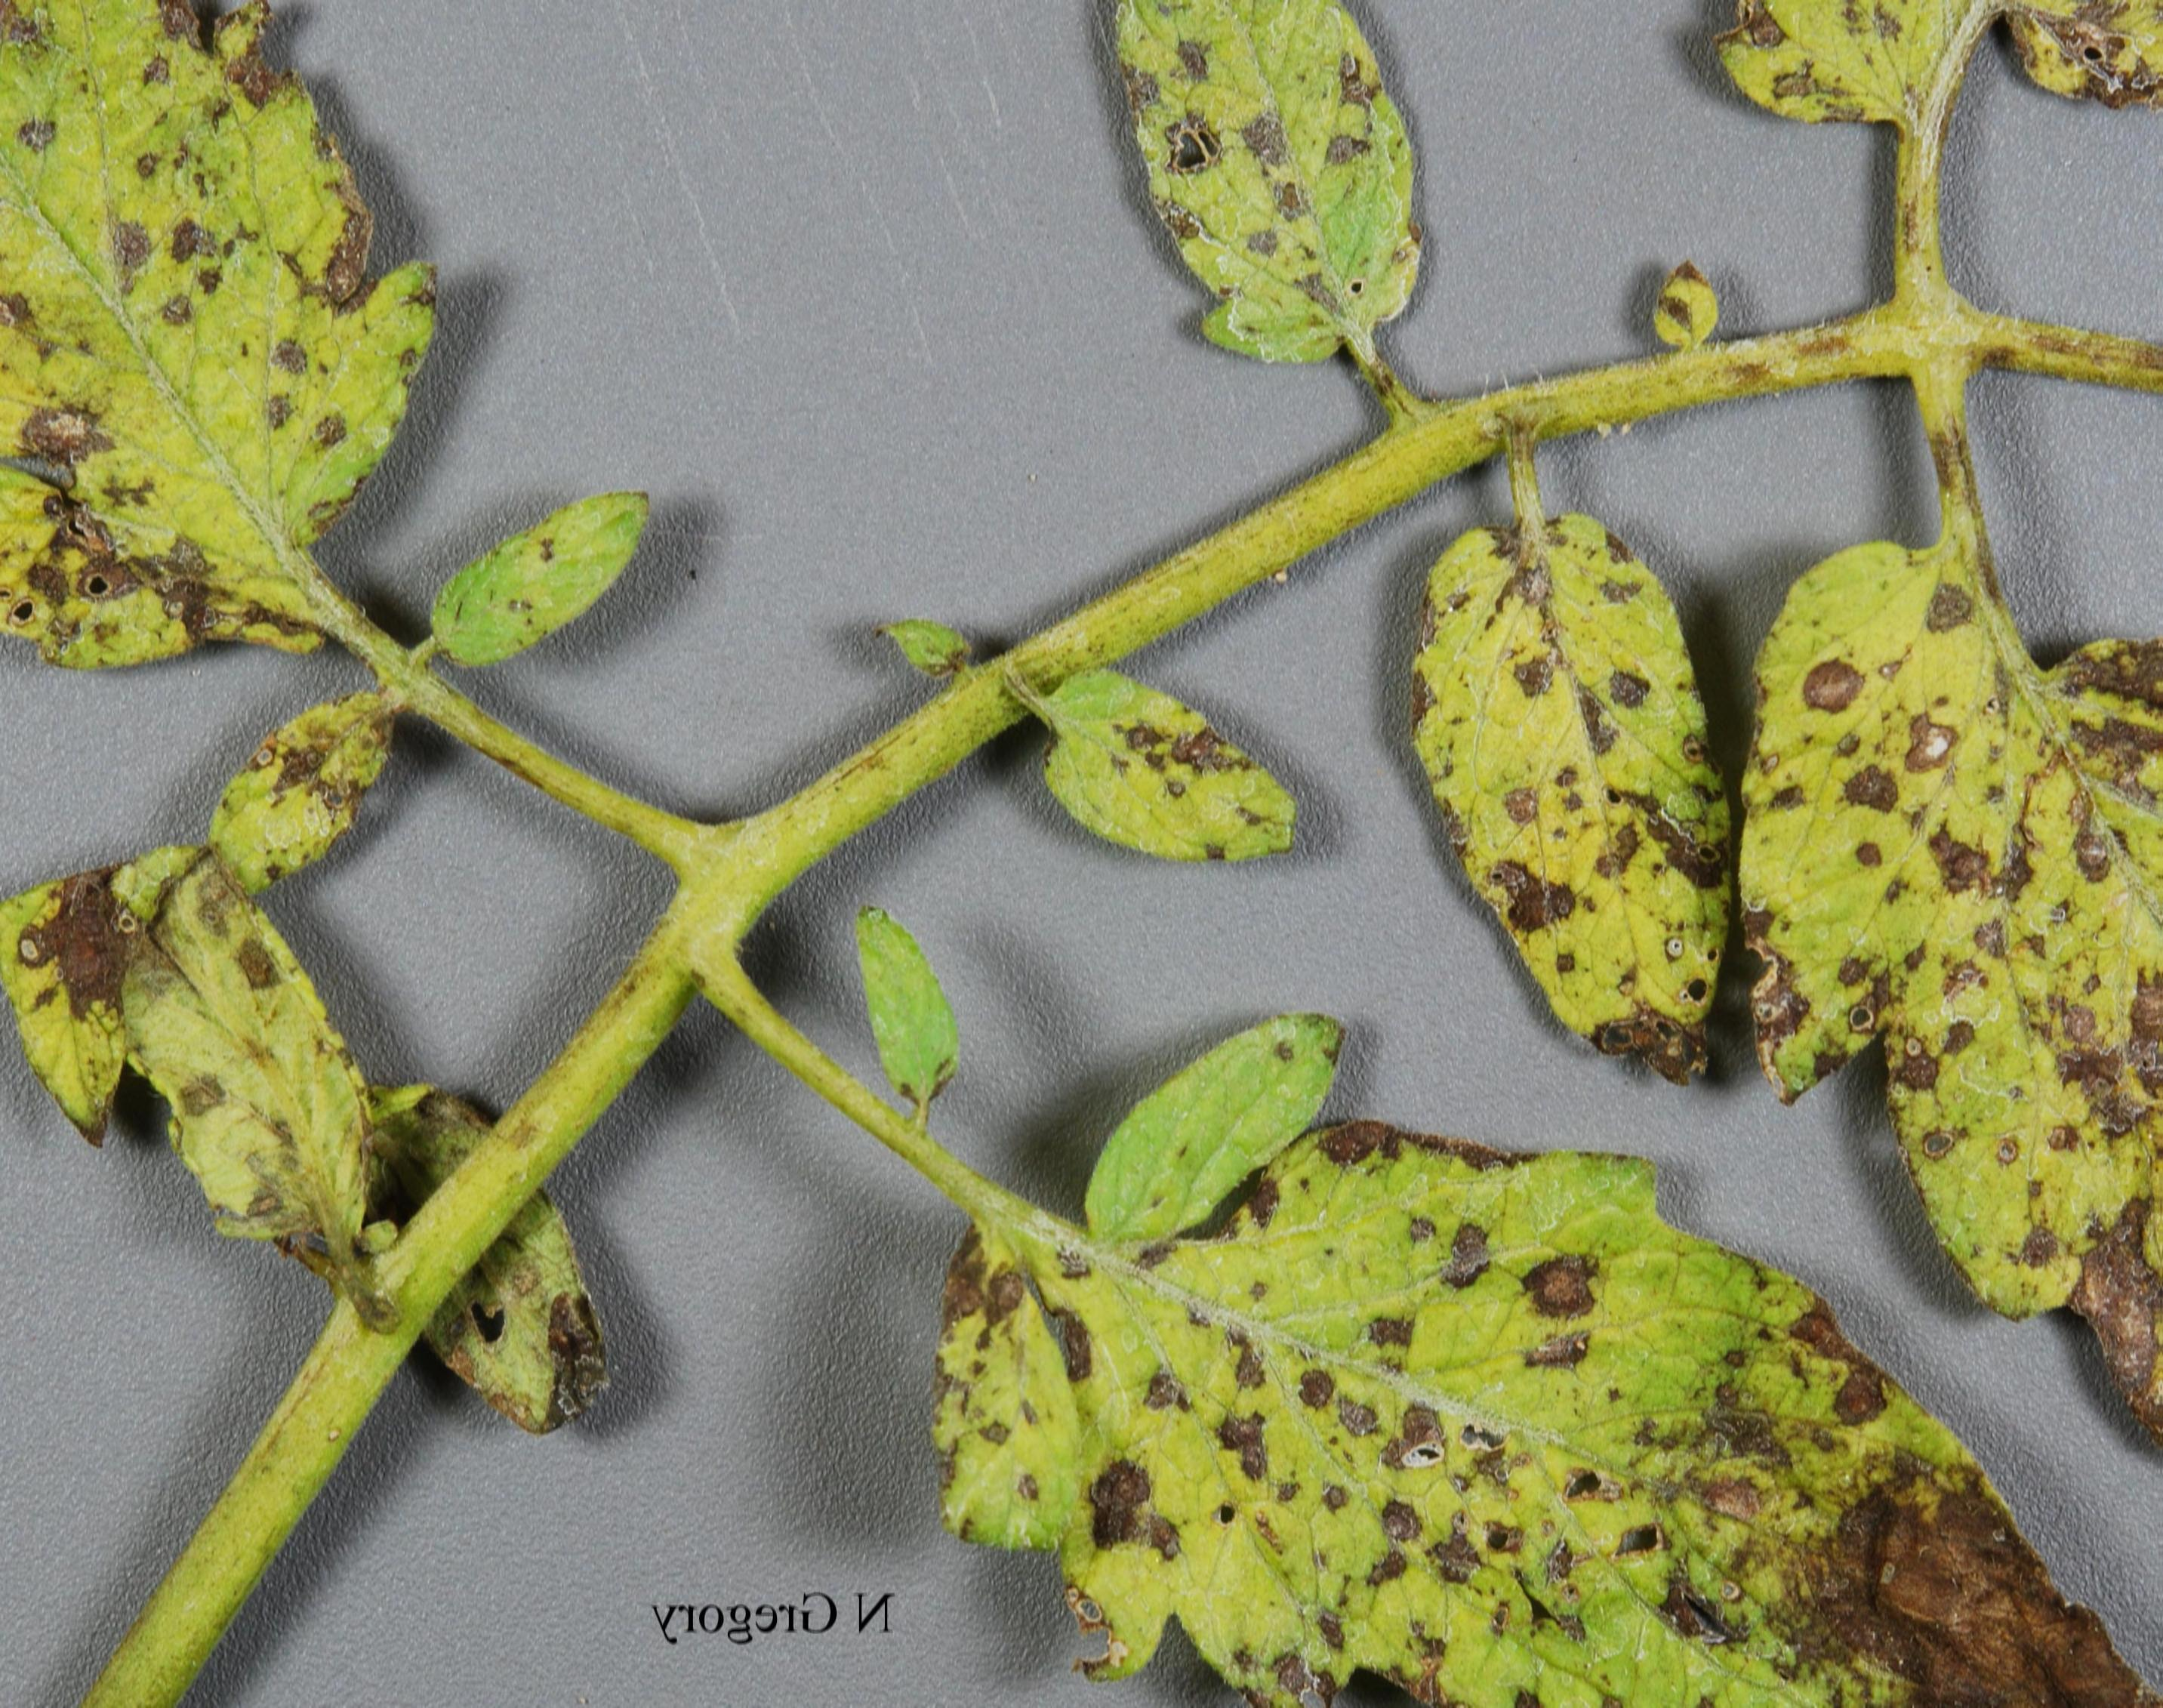Tomato Septoria leaf spot: (911, 1074, 2163, 1708), (1735, 456, 2163, 1617), (0, 0, 530, 753), (1413, 514, 1782, 1125), (0, 800, 377, 1322), (1032, 0, 1499, 379), (1017, 658, 1341, 941)
